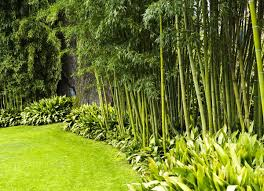bamboo: (41, 1, 147, 132), (55, 4, 113, 104), (110, 1, 139, 133), (139, 1, 162, 150)
